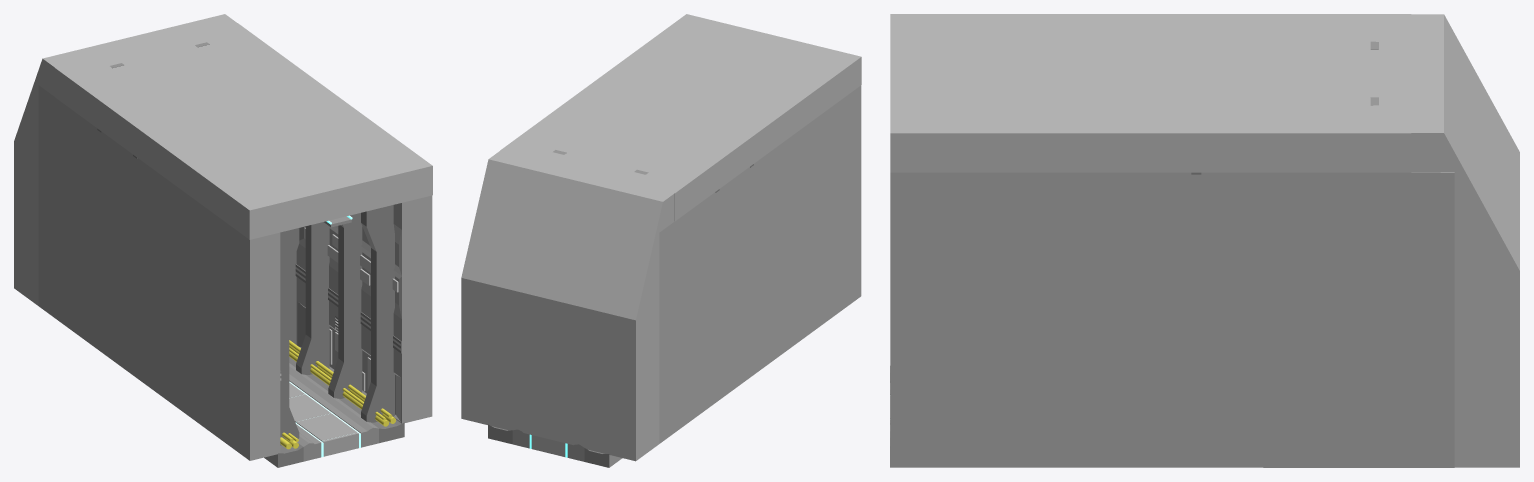
The model's file is 1st hall way.fbx.
3 views of the same model, side by side, from view 1: azimuth 30°, elevation 25°; view 2: azimuth 150°, elevation 25°; view 3: azimuth 270°, elevation 25° (orthographic). The views are drawn at different scales.
Parts seen in each view (by area): view 1: Cylinder.015, Cube.024, Cube.009, Cylinder.023, Cube.033, Cube.001, Cube.021; view 2: Cube.001, Cylinder.015, Cube.024, Cube.009, Cube.021; view 3: Cube.033, Cube.015, Cylinder.015, Cube.001.
Part boxes in pixels (x1,y1,x2,y2): Cylinder.015: (54,23,432,239); Cube.024: (144,163,281,460); Cube.009: (38,85,144,383); Cylinder.023: (280,205,395,449); Cube.033: (295,195,432,423); Cube.001: (14,14,248,305); Cube.021: (264,357,404,467); Cube.001: (461,142,683,461); Cylinder.015: (500,14,861,221); Cube.024: (760,85,861,369); Cube.009: (659,159,760,443); Cube.021: (488,424,622,467); Cube.033: (890,172,1172,467); Cube.015: (1172,172,1454,467); Cylinder.015: (890,14,1411,174); Cube.001: (1370,14,1519,467).
Bounding box in the file's own units: 1302 × 1795 × 2900.
